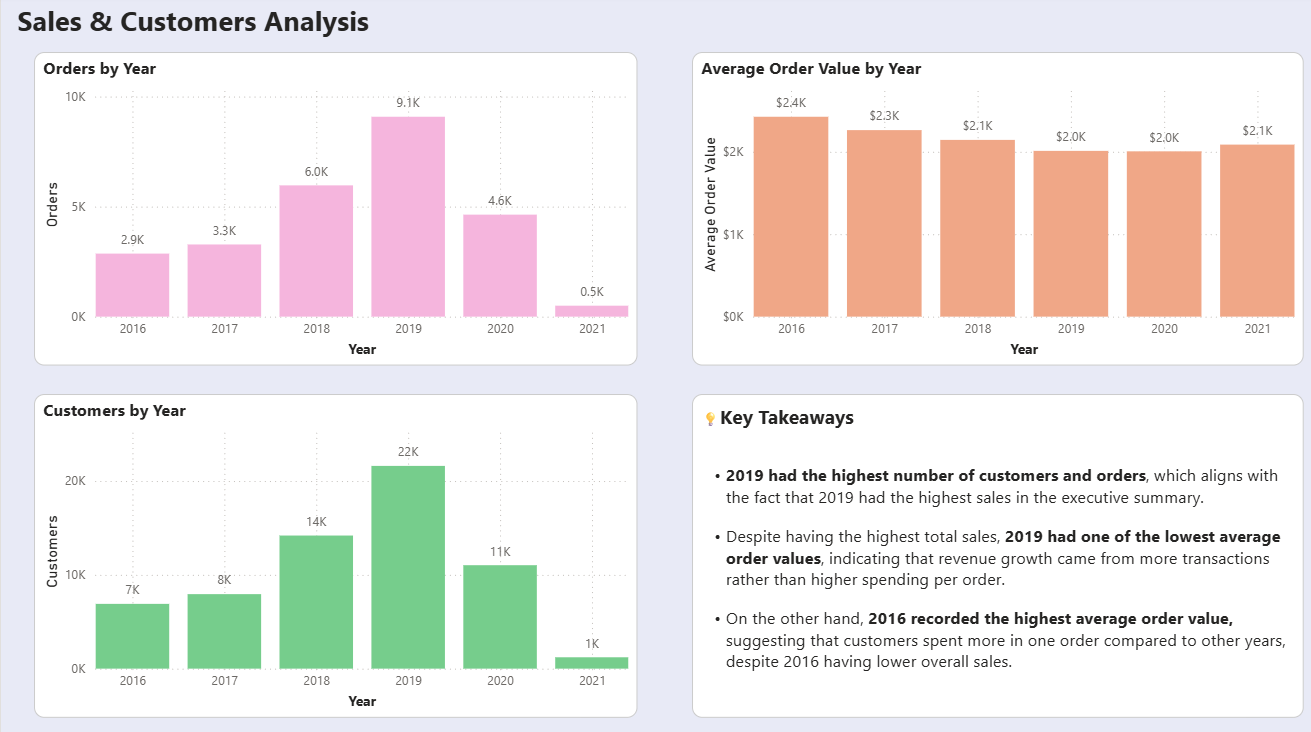

The dashboard page shown, as its layout file describes it:
{"tool":"powerbi","page":{"name":"Sales & Customers Analysis","canvas":[1280,720],"ordinal":1},"visuals":[{"type":"columnChart","fields":{"Category":["sales_cleaned.Order Date.Variation.Date Hierarchy.Year"],"Y":["sales_cleaned.Average Order Value"]},"box":[672.1,54.5,595.3,305.4],"z":0},{"type":"textbox","box":[10.7,0,432.8,54.5],"z":1000},{"type":"columnChart","title":"Customers by Year","fields":{"Category":["sales_cleaned.Order Date.Variation.Date Hierarchy.Year"],"Y":["CountNonNull(sales_cleaned.CustomerKey)"]},"box":[32.1,387.1,587.5,315.1],"z":2000},{"type":"columnChart","title":"Orders by Year","fields":{"Y":["Count(sales_cleaned.Order Number)"],"Category":["sales_cleaned.Order Date.Variation.Date Hierarchy.Year"]},"box":[32.1,54.5,587.5,305.4],"z":3000},{"type":"textbox","box":[672.1,387.1,595.3,315.1],"z":4000}]}

Visuals, with their boxes in screenshot pixels (x1, y1, x2, y2), scaled from the page's 1280x720 canvas onto the 1311x732 screenshot:
columnChart - sales_cleaned.Order Date.Variation.Date Hierarchy.Year x sales_cleaned.Average Order Value: 688, 55, 1298, 366
textbox: 11, 0, 454, 55
"Customers by Year" columnChart: 33, 394, 635, 714
"Orders by Year" columnChart: 33, 55, 635, 366
textbox: 688, 394, 1298, 714
